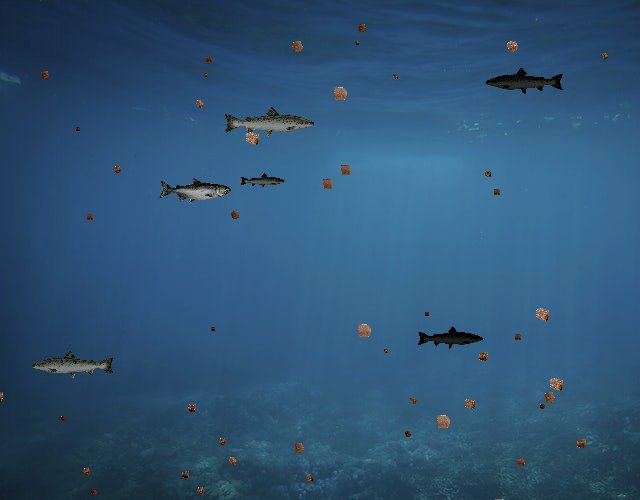Fish: (222, 106, 316, 140), (30, 349, 116, 380), (484, 67, 565, 96), (158, 178, 231, 204), (416, 325, 484, 350), (240, 173, 287, 190)
Pellet: (500, 34, 525, 59), (352, 19, 370, 37), (78, 463, 94, 479), (480, 167, 494, 181), (536, 400, 549, 413), (200, 69, 210, 80)
